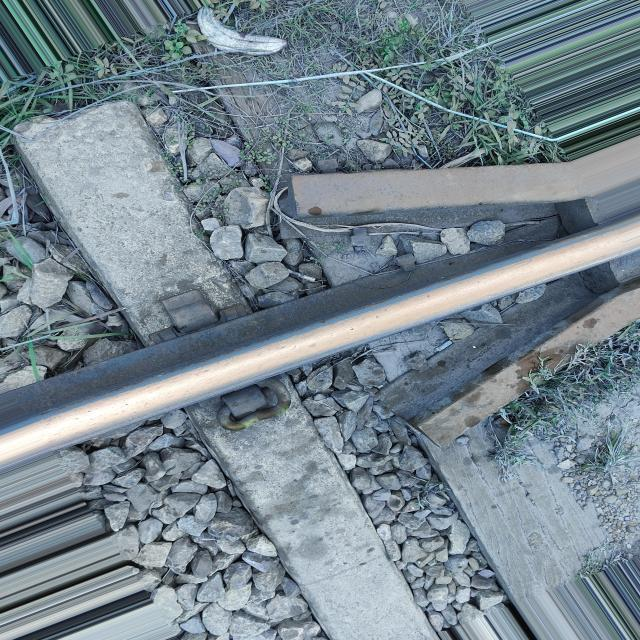Good Fasteners: (217, 384, 290, 431)
Missing Fastener: (137, 282, 226, 340)
